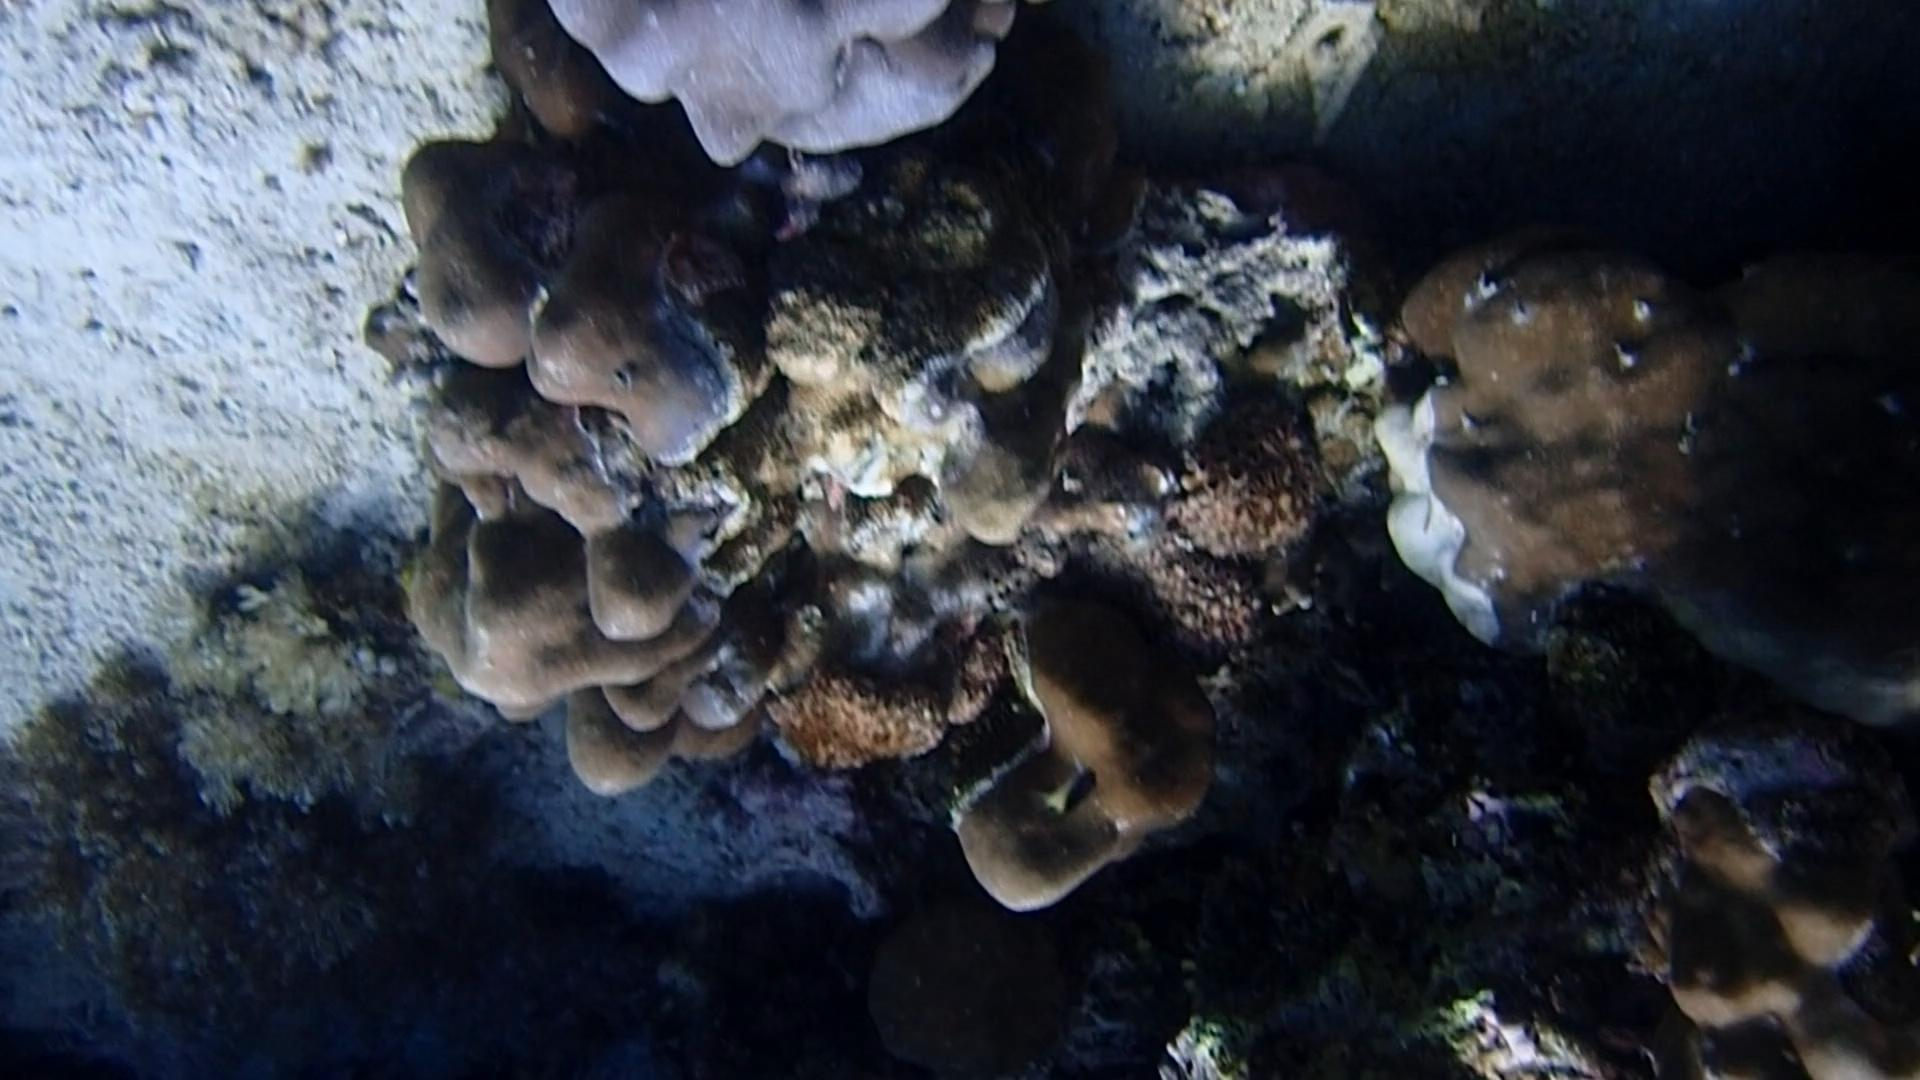Yellow Tail: (1038, 754, 1112, 828)
